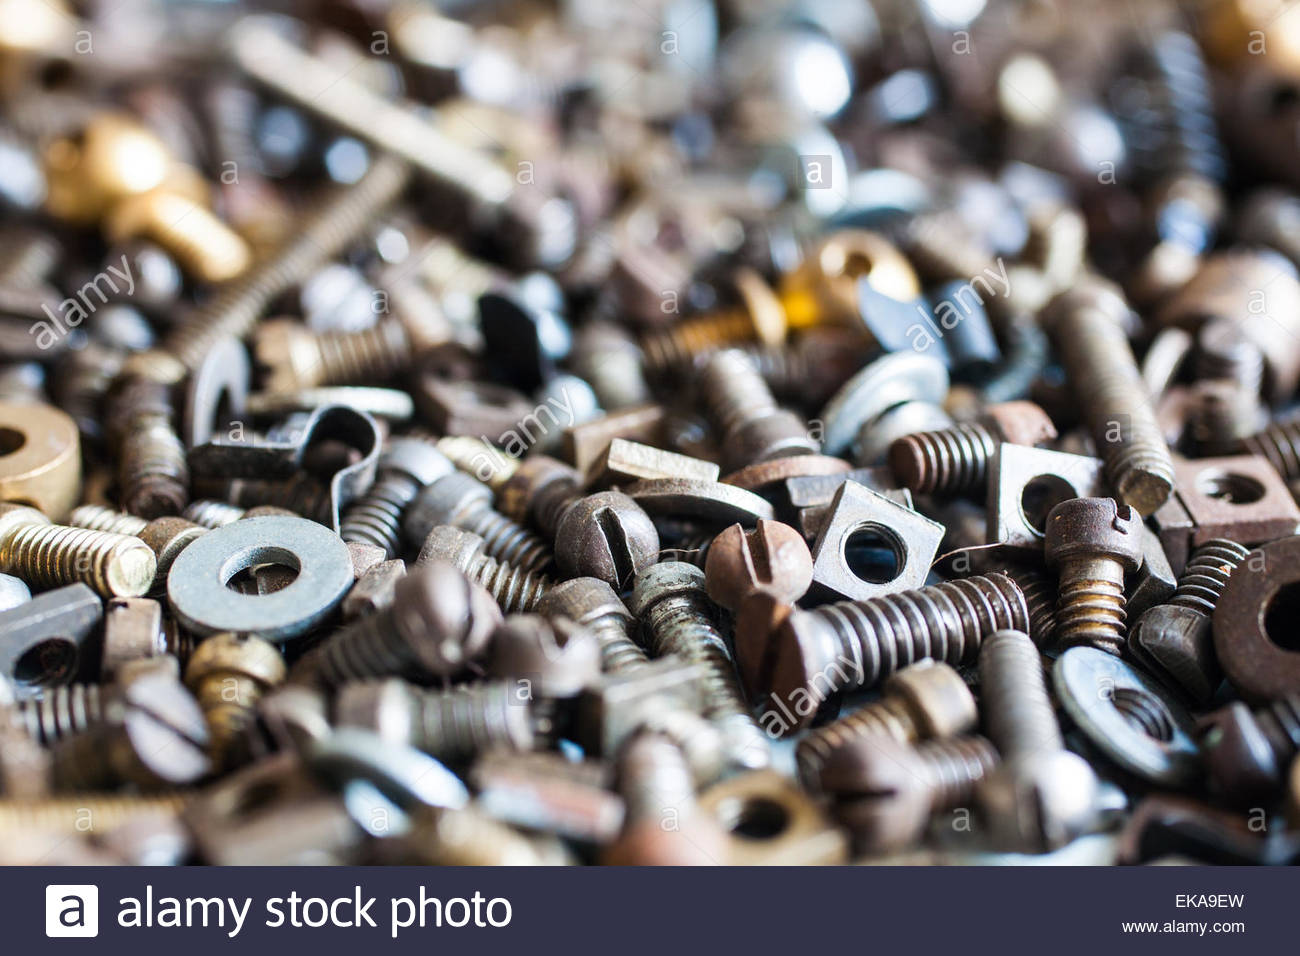flat washer: (155, 500, 365, 650)
machine screw: (723, 565, 1037, 752)
